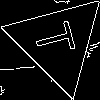T: (32, 17, 85, 59)
